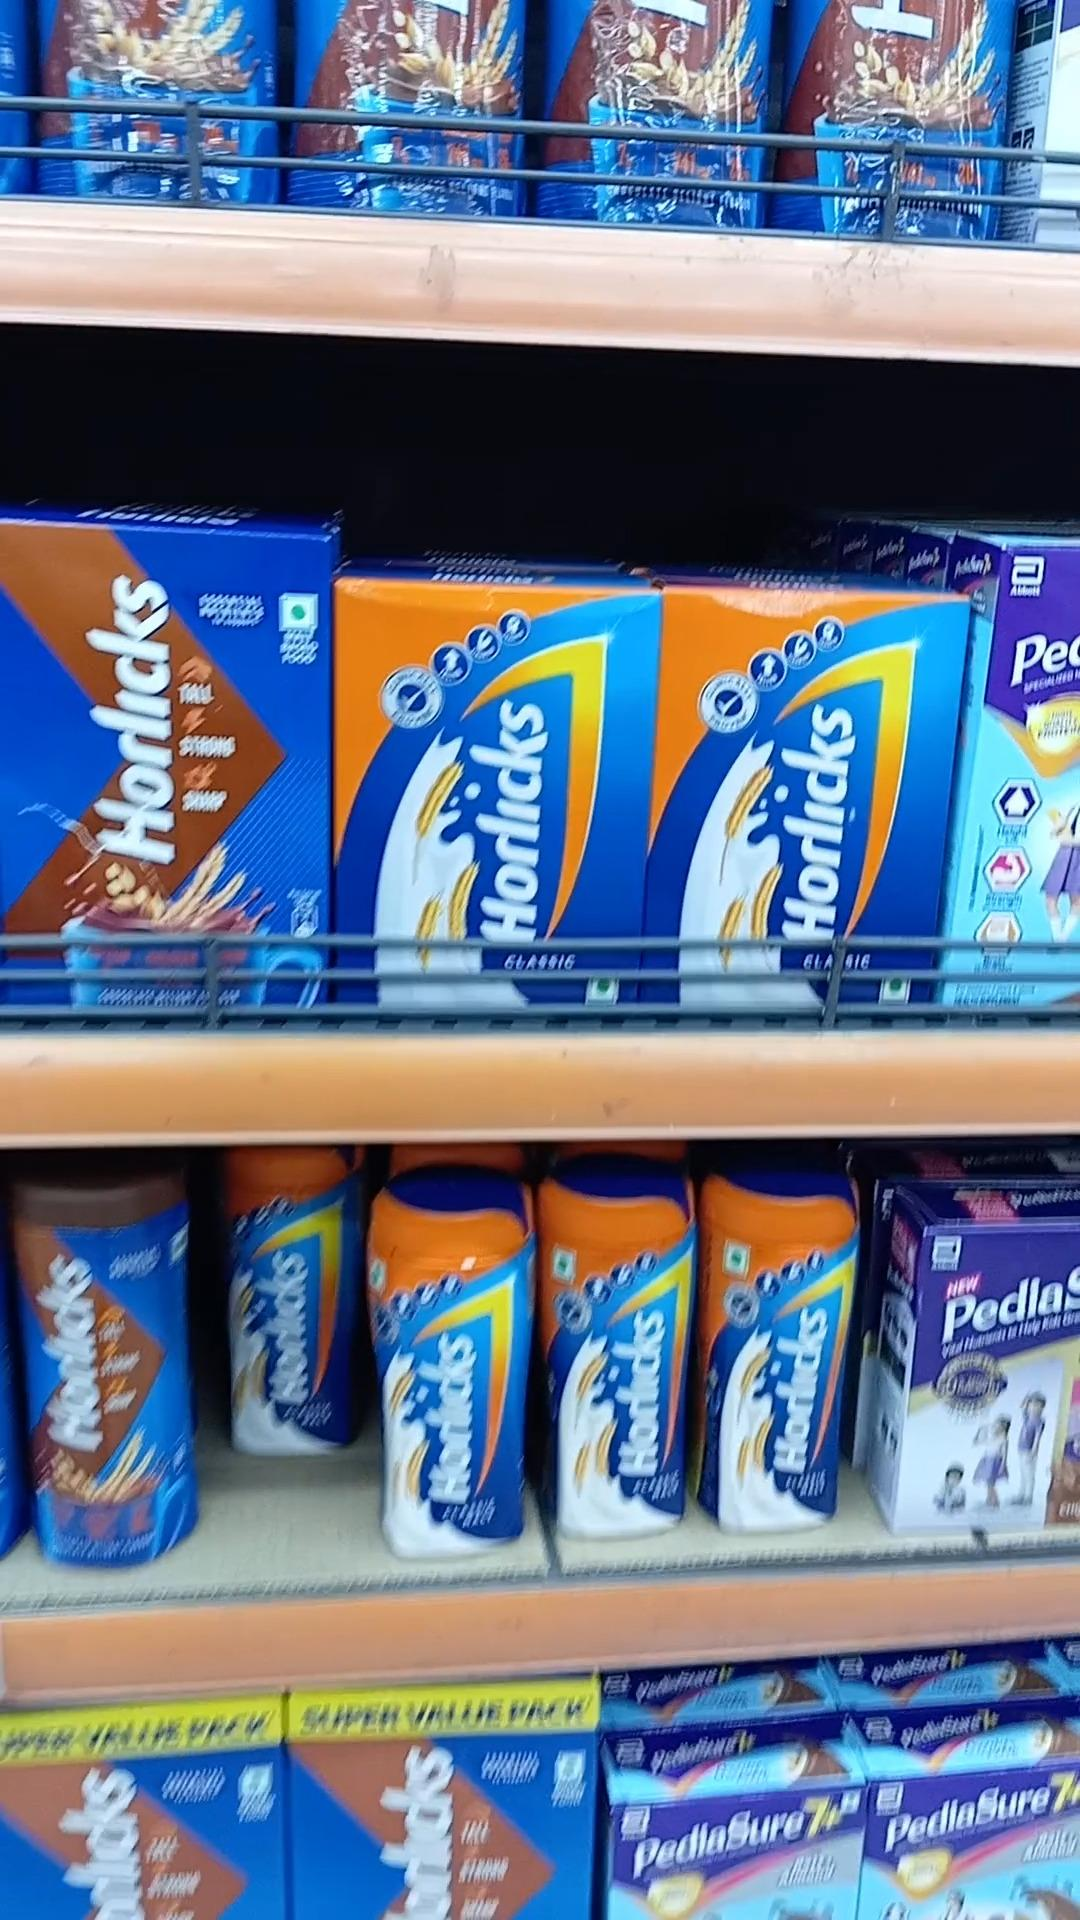HORLICK_CHOCOLATE_500_G_JAR: (25, 1162, 203, 1561)
HORLICK_CHOCOLATE_750_G_POUCH: (0, 524, 319, 1018)
HORLICK_CLASSIC_MALT_500_G_JAR: (542, 1167, 703, 1545), (377, 1162, 527, 1538), (713, 1159, 864, 1535), (222, 1153, 364, 1461)
HORLICK_CLASSIC_MALT_500_G_PACK: (327, 588, 658, 1035), (670, 583, 959, 1007)
